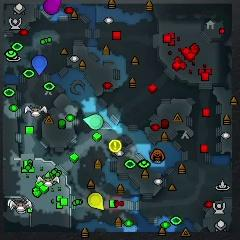Other: (109, 139, 121, 153)
p1: (32, 55, 47, 75)
p2: (83, 113, 104, 130)
p3: (44, 0, 62, 15)
p4: (88, 192, 104, 210)
